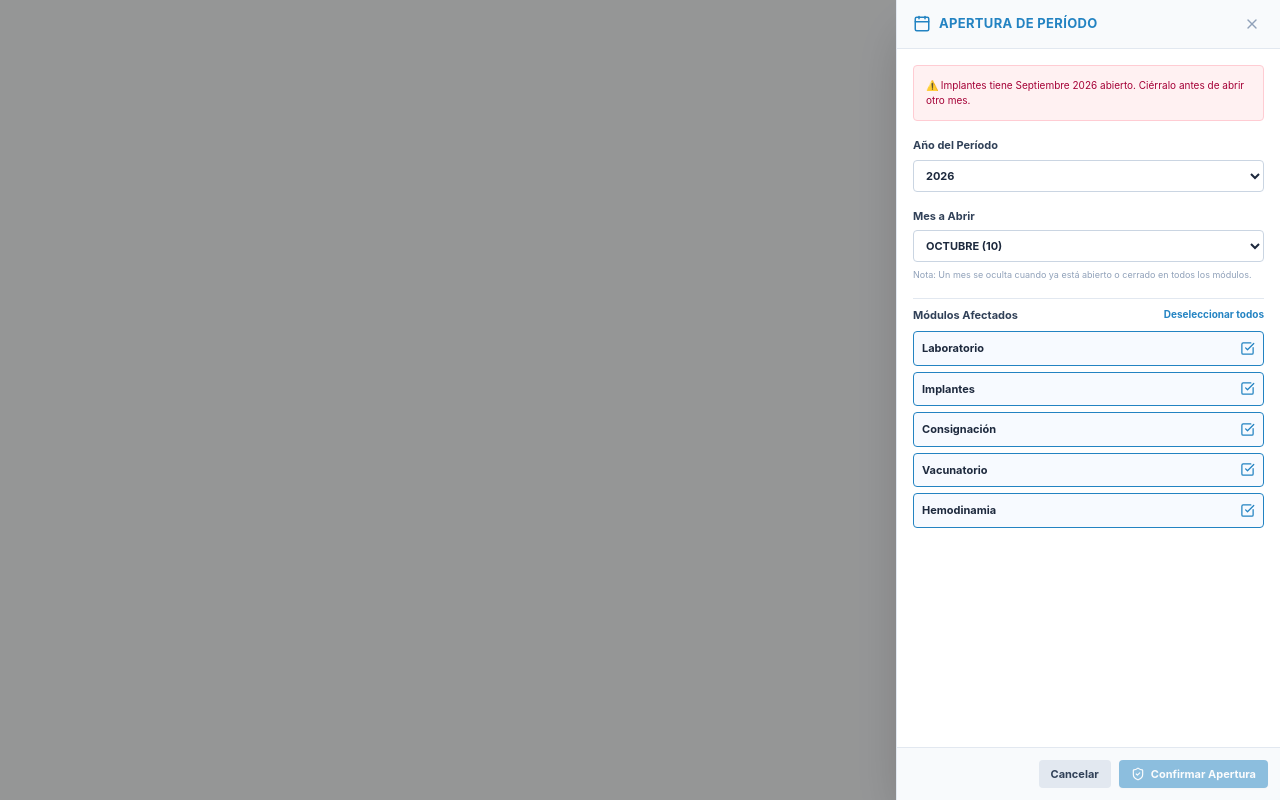
Test: PanelAperturaPeriodo › usa los estados del año elegido en el panel, no los de la tabla
Expected: the text "Ciérralo antes de abrir otro mes" is shown, x1=926 y1=79 x2=1244 y2=106
Select "2027" in the dropdown below "Año del Período" at (1088, 176), box x1=913 y1=160 x2=1264 y2=192
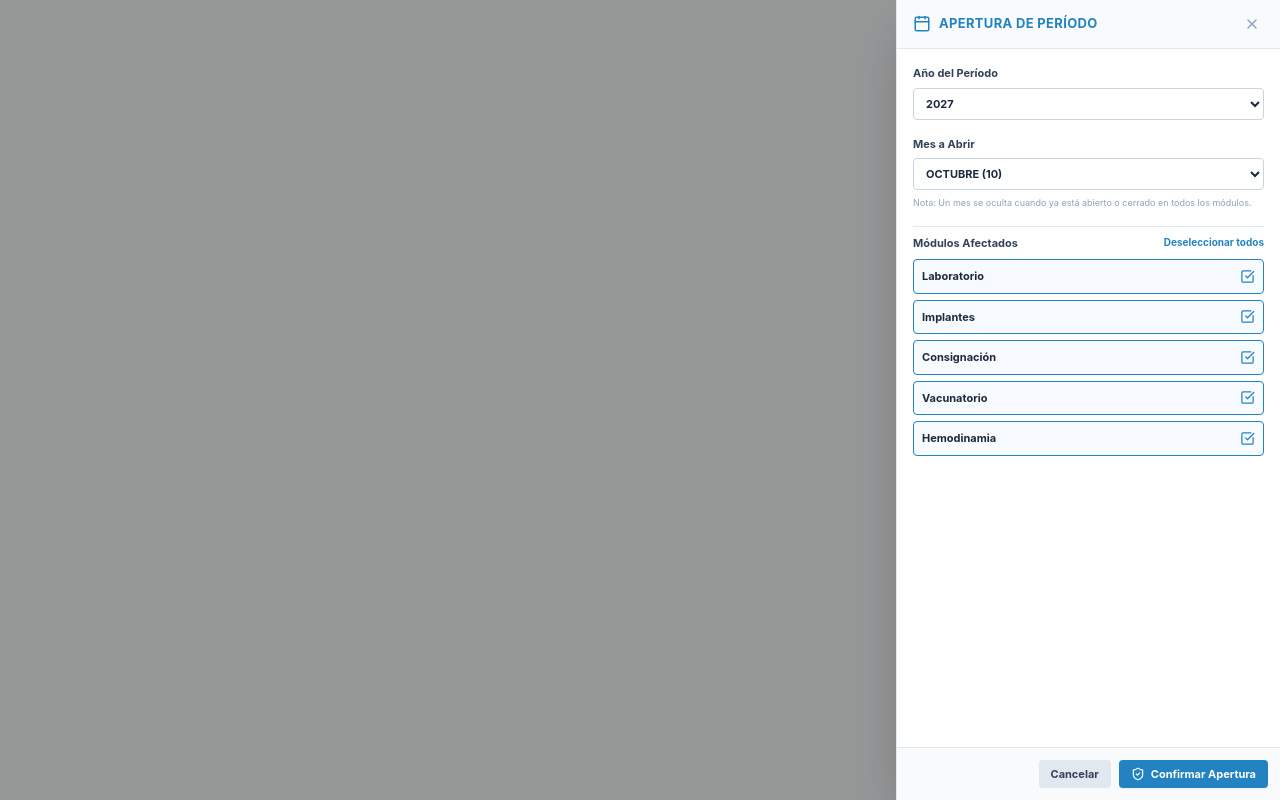
Now the text "Ciérralo antes de abrir otro mes" is gone
